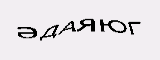А: (57, 20, 76, 35)
Г: (127, 21, 143, 35)
Д: (38, 24, 59, 42)
Ю: (98, 18, 127, 34)
Я: (78, 19, 98, 35)
Ә: (16, 25, 38, 40)
